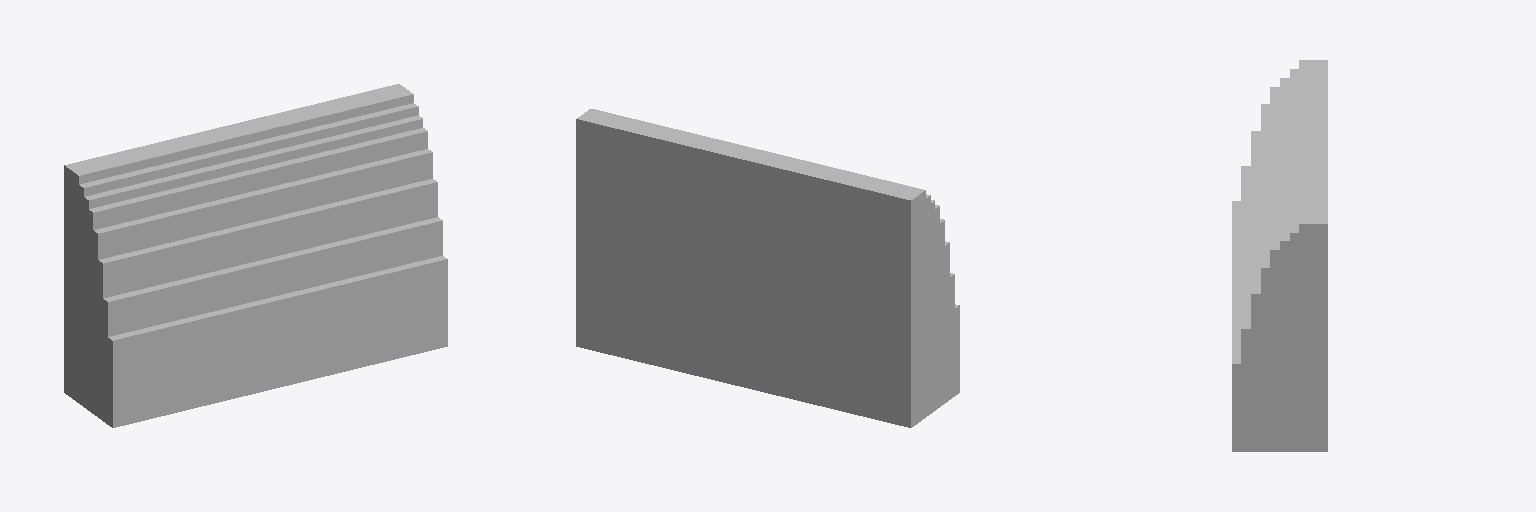
The model's file is wall.obj.
3 renders of one model, left to right at view 1: azimuth 30°, elevation 25°; view 2: azimuth 150°, elevation 25°; view 3: azimuth 270°, elevation 25°, orthographic.
Visible parts, largest first — view 1: wall; view 2: wall; view 3: wall.
Part boxes in pixels (bbox=[...]): wall: bbox=[64, 84, 447, 427]; wall: bbox=[576, 109, 959, 427]; wall: bbox=[1232, 60, 1327, 451].
Size of the model in its own units: 40 by 26 by 10.